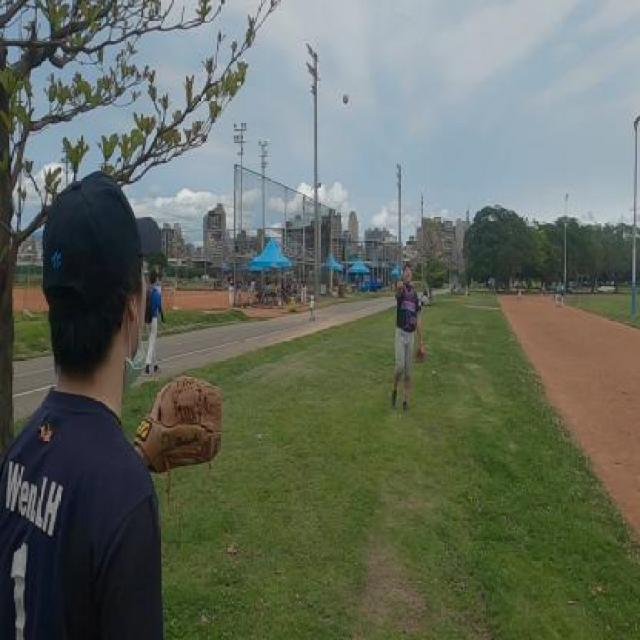baseball: (343, 94, 348, 105)
